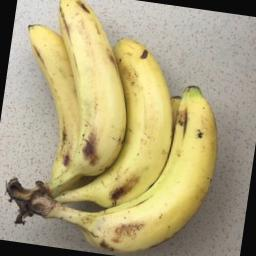Banana Ripe: (91, 65, 225, 256), (76, 20, 184, 244), (32, 0, 142, 208), (0, 14, 101, 239)
